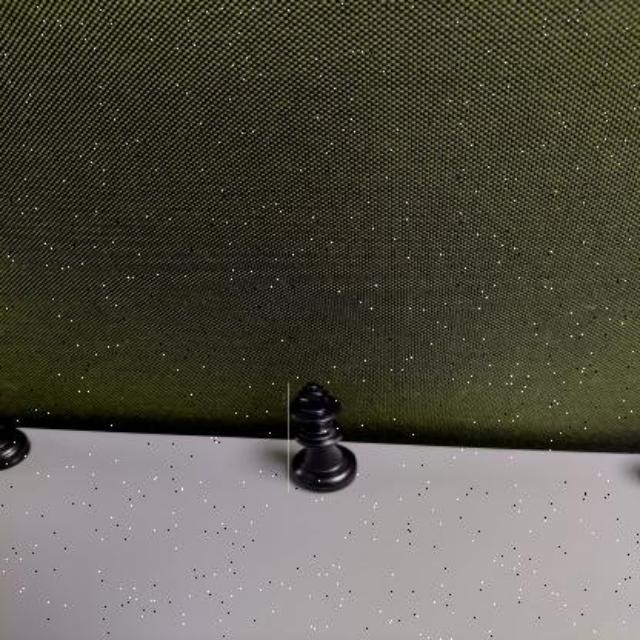black-king: (287, 383, 356, 493)
